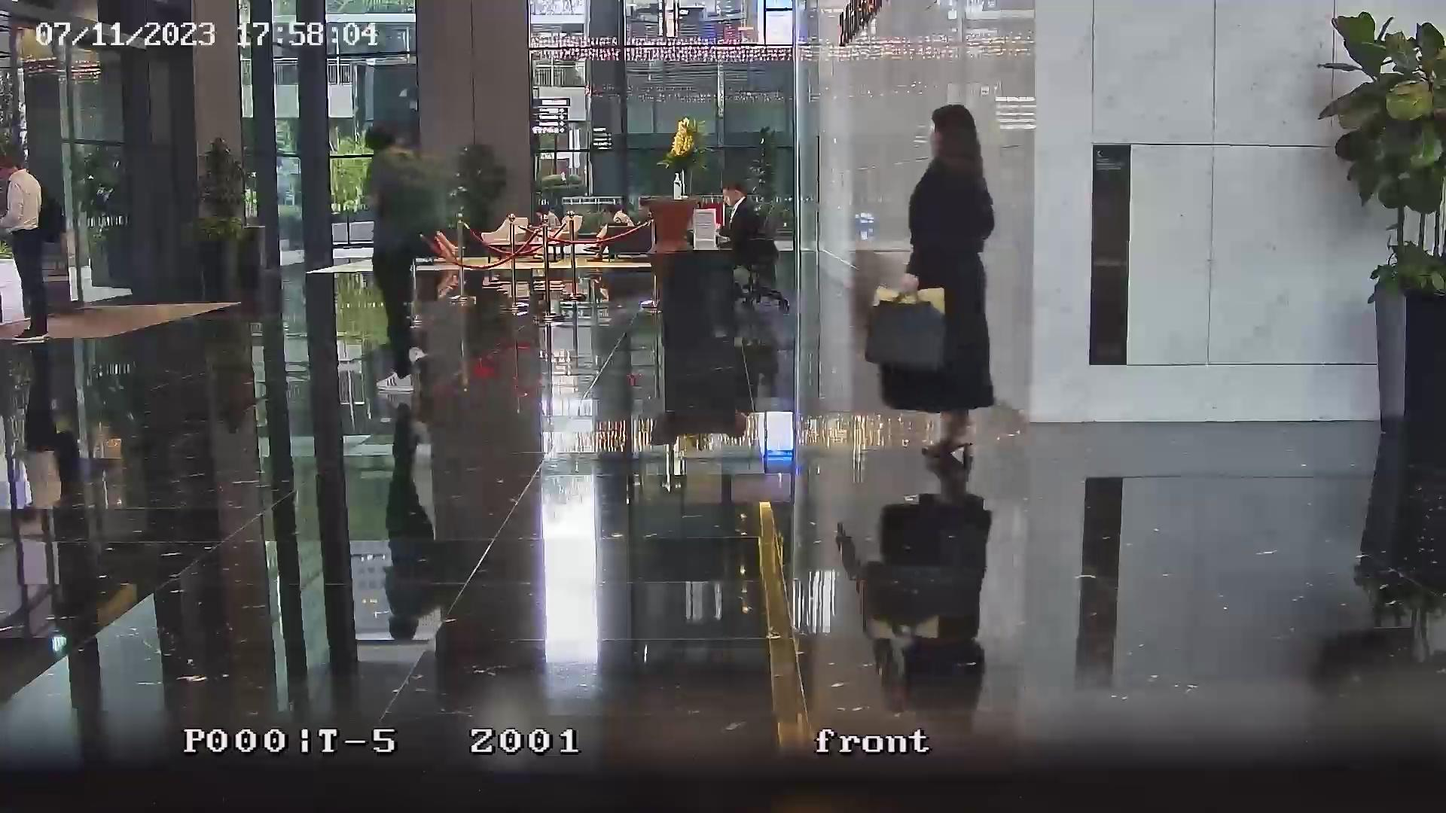person: (897, 103, 996, 411), (358, 123, 439, 400), (0, 148, 49, 342), (707, 178, 764, 261), (585, 202, 637, 262), (529, 203, 563, 260)
